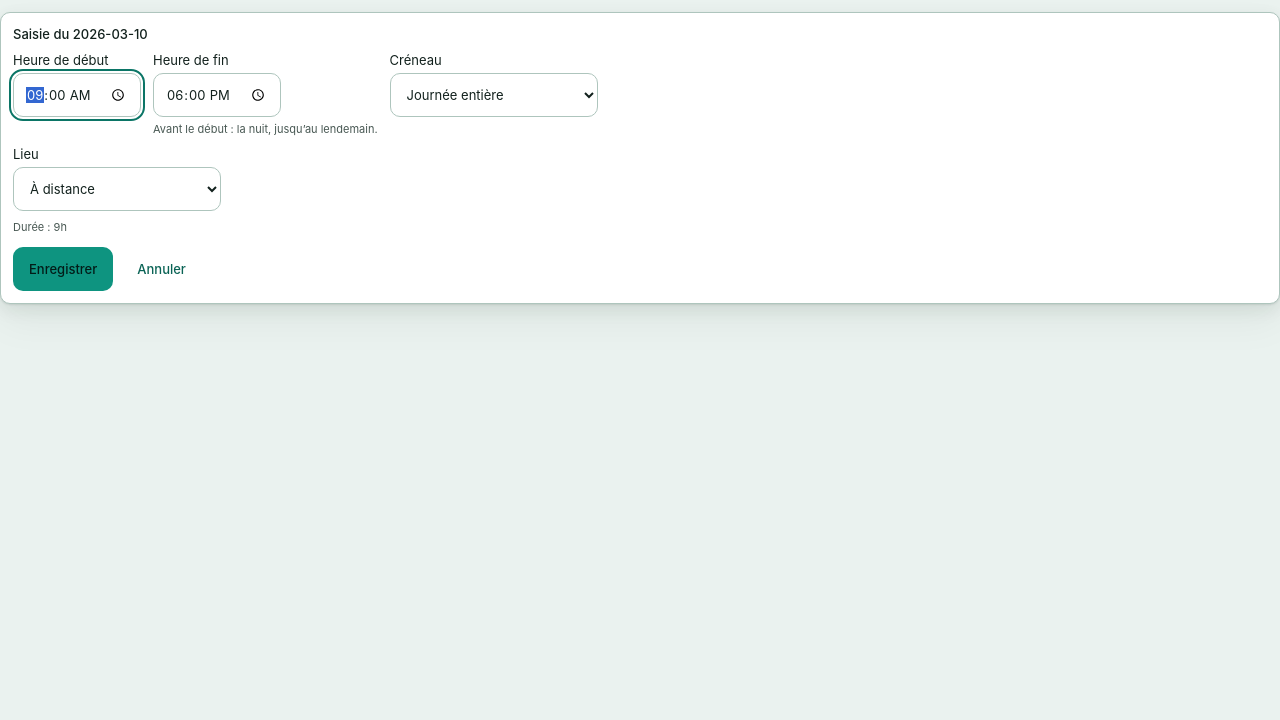
Scenario: CellForm › refuse une heure vide sans rien transmettre
This screenshot has width=1280, height=720.
Clear the time field labelled "Heure de début" at (77, 95), box [13,73,141,117]
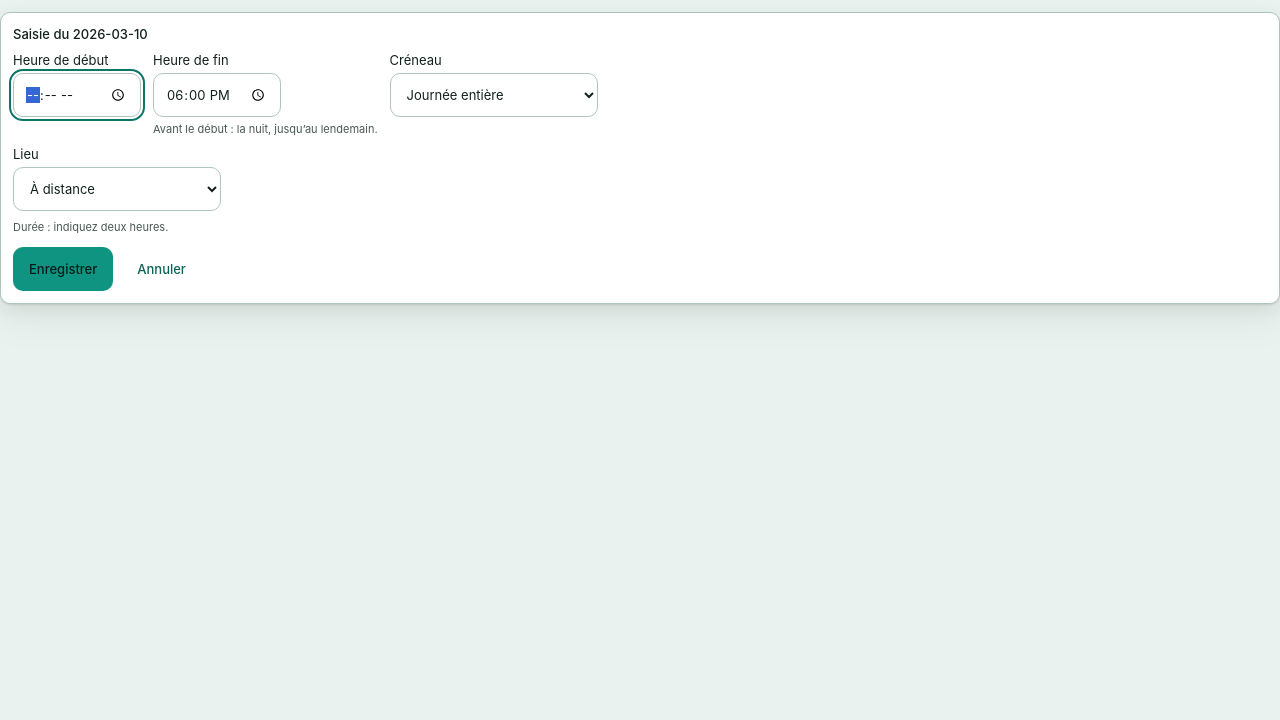
Click the button "Enregistrer" at (63, 269), box [13,247,113,291]
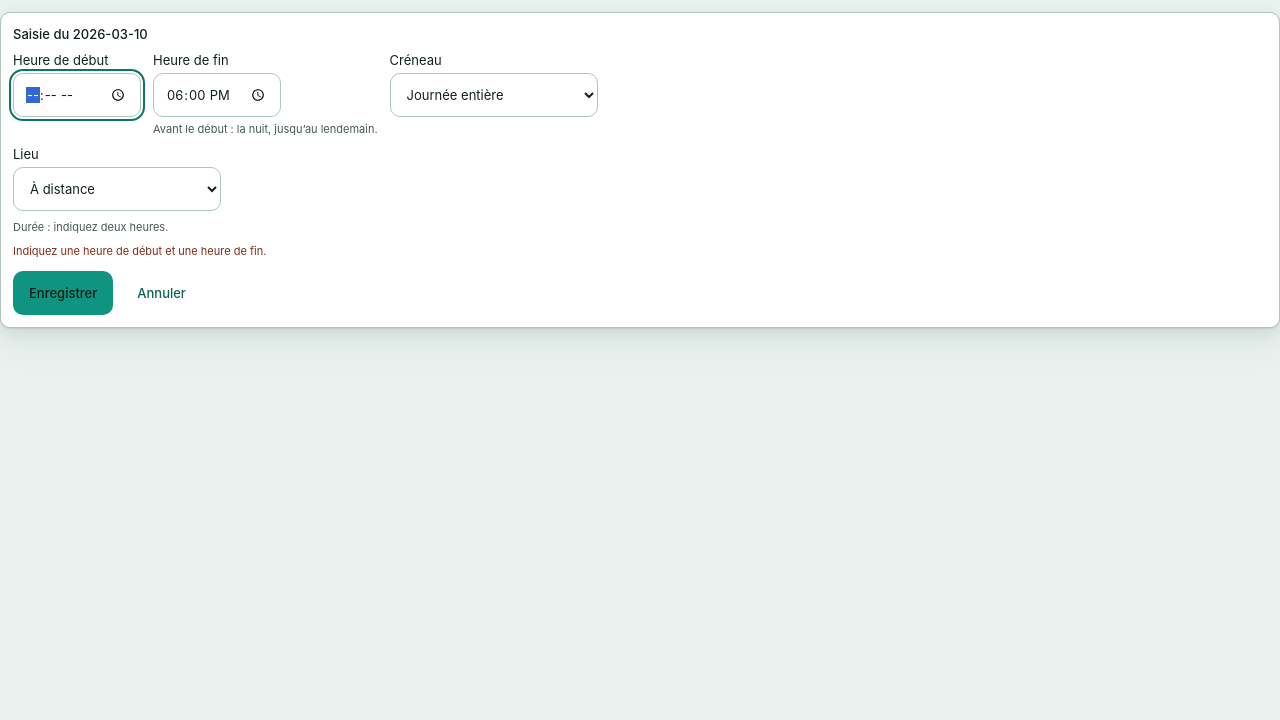
expect the message "Indiquez une heure de début et une heure de fin." is shown: met, box [13,244,266,258]
